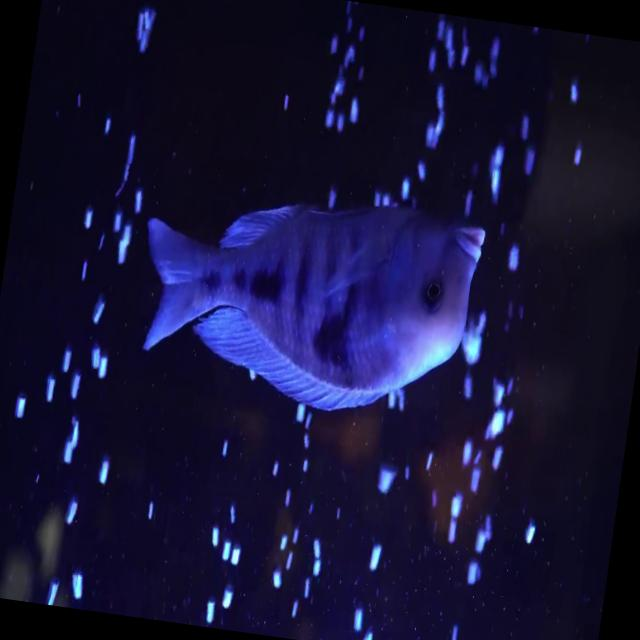fish: (121, 164, 497, 432)
